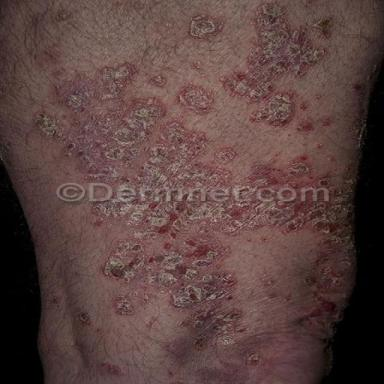Psoriasis: (91, 196, 354, 354), (35, 64, 237, 187), (221, 1, 334, 125), (241, 158, 311, 185), (178, 83, 213, 114), (189, 13, 223, 39), (149, 75, 166, 87), (318, 174, 329, 187)
